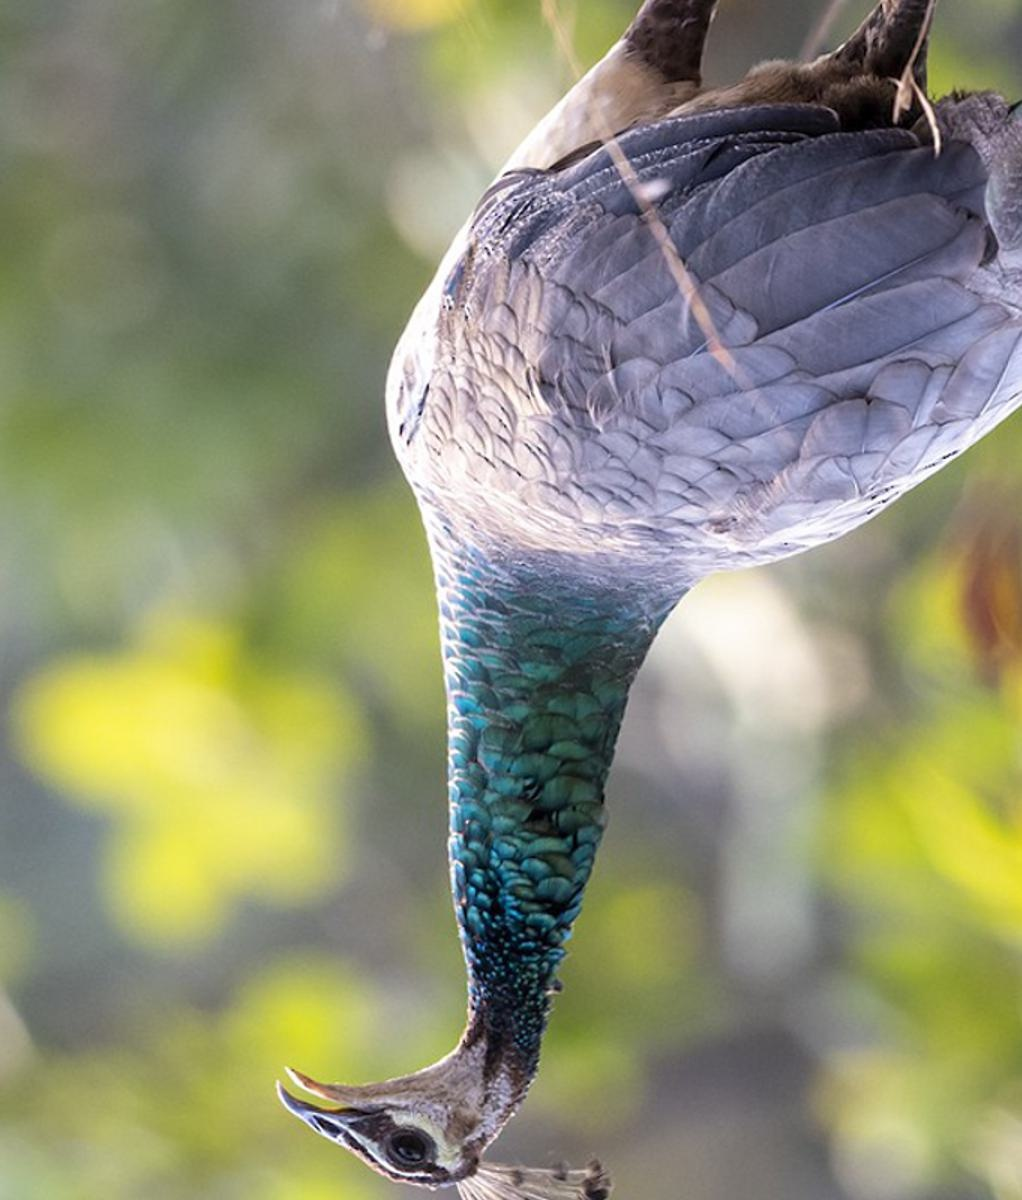peacock: (260, 1, 1022, 1188)
